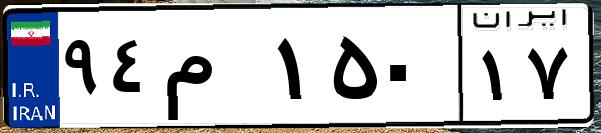0: (385, 28, 445, 110)
1: (270, 28, 330, 110), (475, 38, 525, 113)
4: (110, 28, 158, 98)
5: (330, 28, 385, 110)
7: (525, 38, 570, 115)
9: (57, 26, 110, 100)
م: (158, 20, 270, 120)
